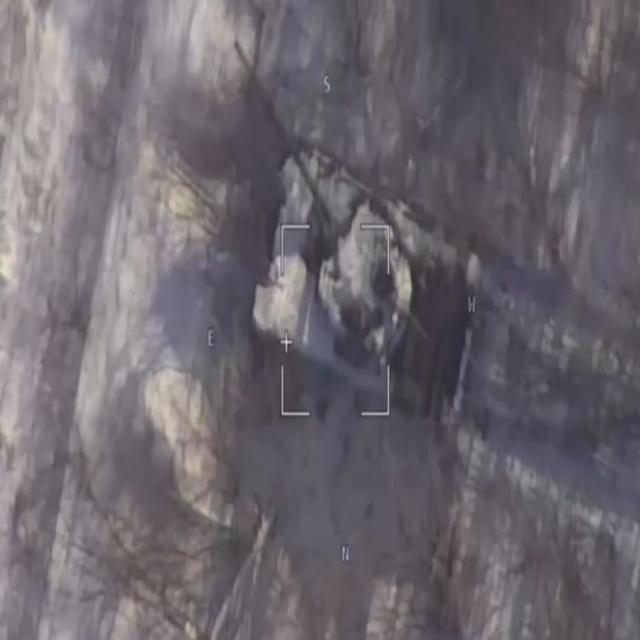vehicle: (250, 111, 487, 453)
